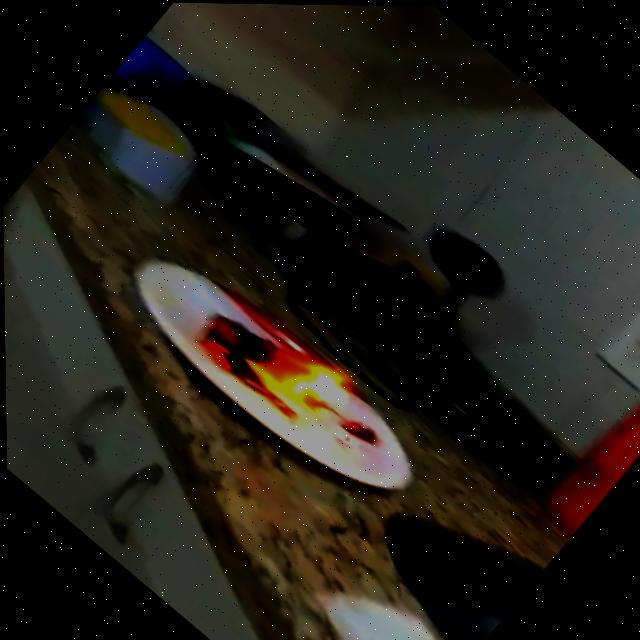Fire: (188, 279, 362, 444)
